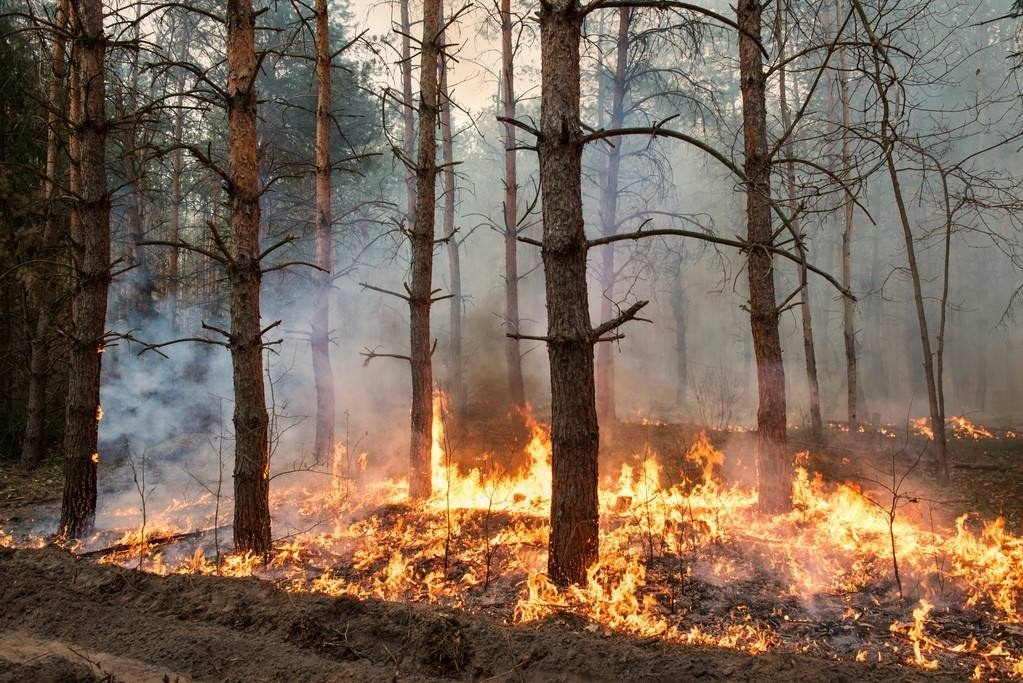fire: (77, 370, 1019, 658)
